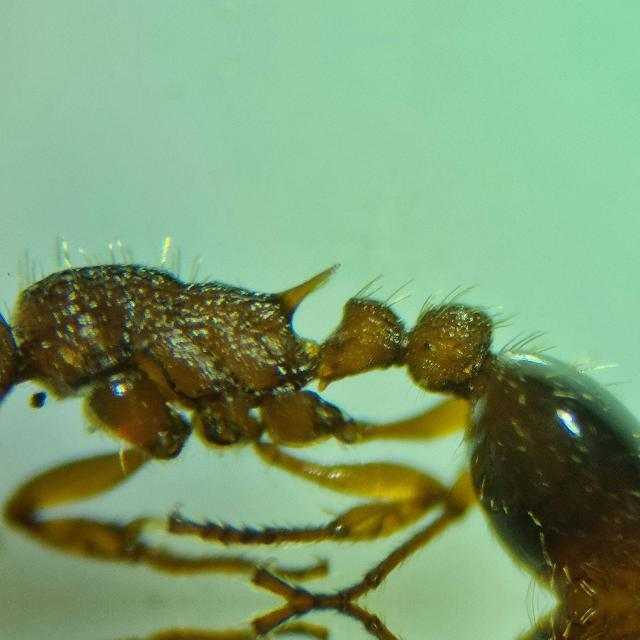Myrmica: (1, 192, 631, 598)
